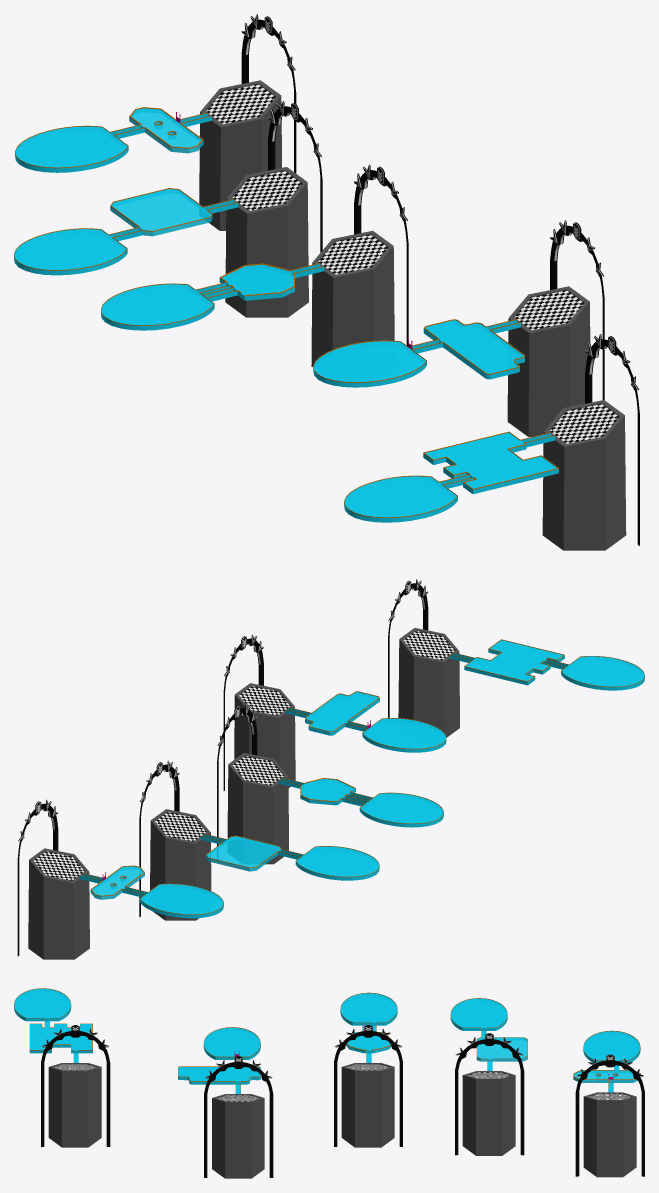
File: Level 1 to 5.fbx
3 renders of one model, top to bottom at view 1: azimuth 30°, elevation 25°; view 2: azimuth 150°, elevation 25°; view 3: azimuth 270°, elevation 25°, orthographic. The views are drawn at different scales.
Visible parts, largest first — view 1: finish_ponit4, finish_ponit1, finish_ponit2, finish_ponit3, finish_ponit, base0_1, Level_04, Level_05, Level_02, Level_03, Level_01, base_5 (+3 smaller); view 2: finish_ponit, finish_ponit4, finish_ponit3, finish_ponit2, finish_ponit1, base0_1, Level_03, Level_04, Level_02, Level_01, Level_05, base_5 (+3 smaller); view 3: finish_ponit, finish_ponit2, finish_ponit4, finish_ponit1, finish_ponit3, Level_05, Level_04, Level_03, Level_01, Level_02, base0_1, base_5 (+3 smaller).
Boxes of the visible parts, x1=… form: finish_ponit4: x1=542, y1=334, x2=639, y2=550; finish_ponit1: x1=507, y1=220, x2=604, y2=436; finish_ponit2: x1=225, y1=101, x2=322, y2=317; finish_ponit3: x1=311, y1=164, x2=408, y2=366; finish_ponit: x1=199, y1=14, x2=296, y2=230; base0_1: x1=423, y1=432, x2=558, y2=494; Level_04: x1=101, y1=284, x2=214, y2=330; Level_05: x1=344, y1=476, x2=457, y2=522; Level_02: x1=15, y1=126, x2=128, y2=172; Level_03: x1=14, y1=229, x2=127, y2=275; Level_01: x1=313, y1=341, x2=426, y2=387; base_5: x1=423, y1=320, x2=524, y2=379; finish_ponit: x1=17, y1=799, x2=89, y2=959; finish_ponit4: x1=388, y1=579, x2=459, y2=737; finish_ponit3: x1=217, y1=704, x2=288, y2=864; finish_ponit2: x1=139, y1=760, x2=211, y2=920; finish_ponit1: x1=223, y1=634, x2=295, y2=790; base0_1: x1=464, y1=640, x2=564, y2=685; Level_03: x1=295, y1=846, x2=379, y2=880; Level_04: x1=359, y1=793, x2=443, y2=827; Level_02: x1=139, y1=884, x2=223, y2=918; Level_01: x1=362, y1=718, x2=446, y2=752; Level_05: x1=561, y1=656, x2=644, y2=690; base_5: x1=305, y1=692, x2=379, y2=735; finish_ponit: x1=575, y1=1054, x2=644, y2=1177; finish_ponit2: x1=455, y1=1033, x2=524, y2=1155; finish_ponit4: x1=41, y1=1025, x2=110, y2=1147; finish_ponit1: x1=204, y1=1056, x2=273, y2=1178; finish_ponit3: x1=334, y1=1025, x2=402, y2=1147; Level_05: x1=14, y1=988, x2=71, y2=1021; Level_04: x1=340, y1=993, x2=397, y2=1025; Level_03: x1=450, y1=998, x2=507, y2=1030; Level_01: x1=203, y1=1027, x2=260, y2=1059; Level_02: x1=583, y1=1031, x2=640, y2=1062; base0_1: x1=29, y1=1024, x2=92, y2=1053; base_5: x1=178, y1=1067, x2=260, y2=1084.
Bounding box in the file's own units: 202 × 99.25 × 448.
Materials: 13 (2 with a texture image).
